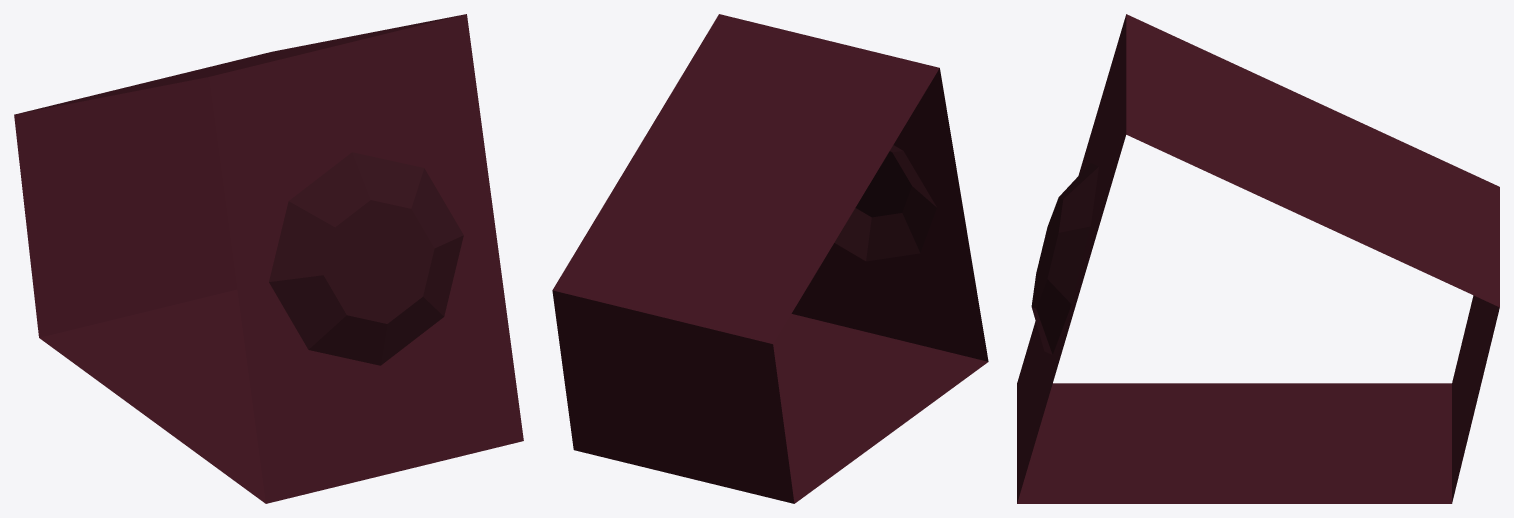
File: Itr_Obj_Speaker2_Middle_04.FBX
The picture shows the model from 3 angles, left to right: view 1: azimuth 30°, elevation 25°; view 2: azimuth 150°, elevation 25°; view 3: azimuth 270°, elevation 25°; orthographic projection. The views are drawn at different scales.
Parts seen in each view (by area): view 1: Itr_Obj_Speaker2_Middle_04; view 2: Itr_Obj_Speaker2_Middle_04; view 3: Itr_Obj_Speaker2_Middle_04.
Part boxes in pixels (x1,y1,x2,y2): Itr_Obj_Speaker2_Middle_04: (14, 14, 523, 503); Itr_Obj_Speaker2_Middle_04: (552, 14, 988, 503); Itr_Obj_Speaker2_Middle_04: (1017, 14, 1499, 503).
Size of the model in its own units: 6.69 by 9.54 by 11.31.
